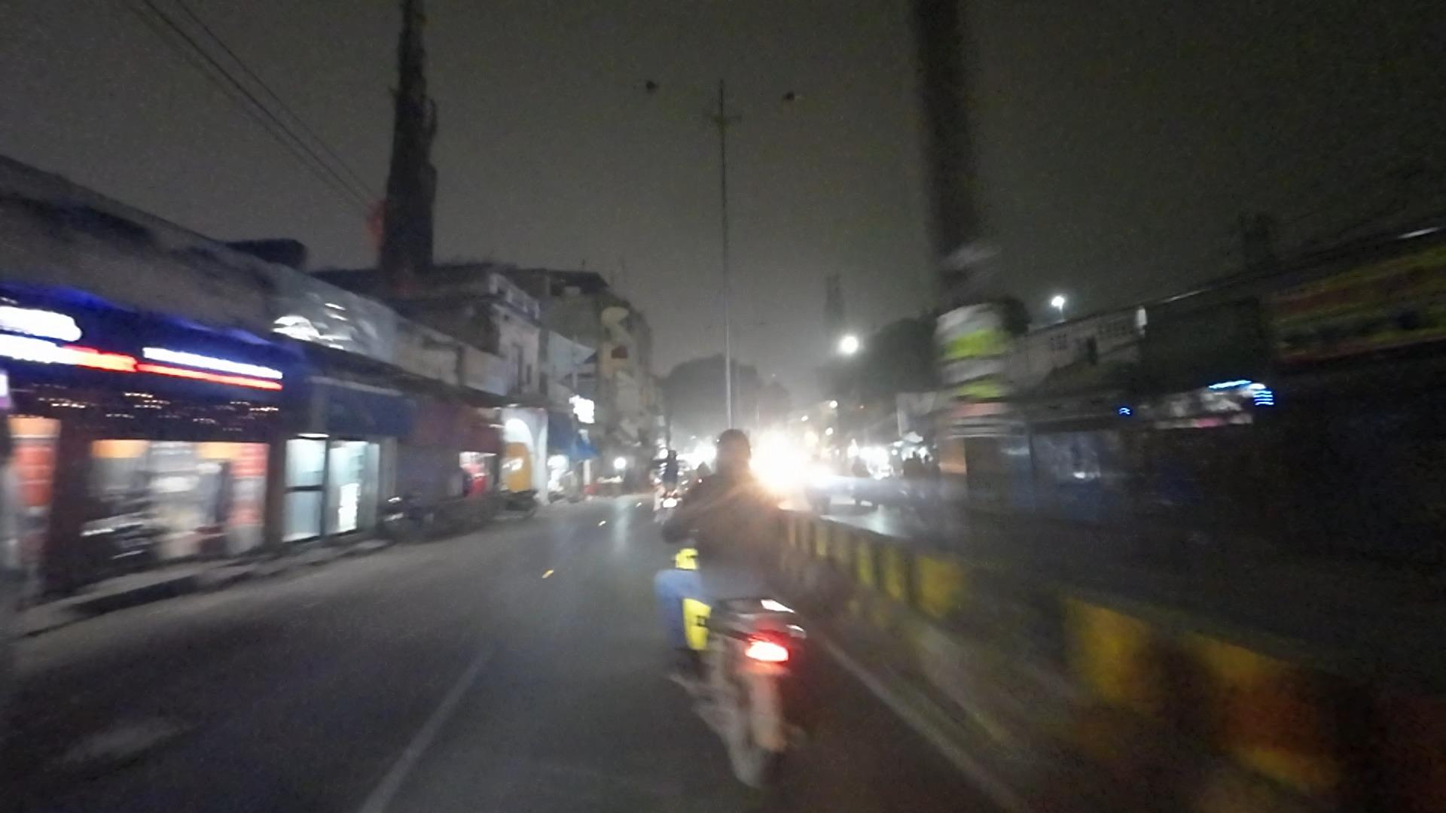streetlight: (623, 70, 711, 104), (733, 83, 810, 110)
